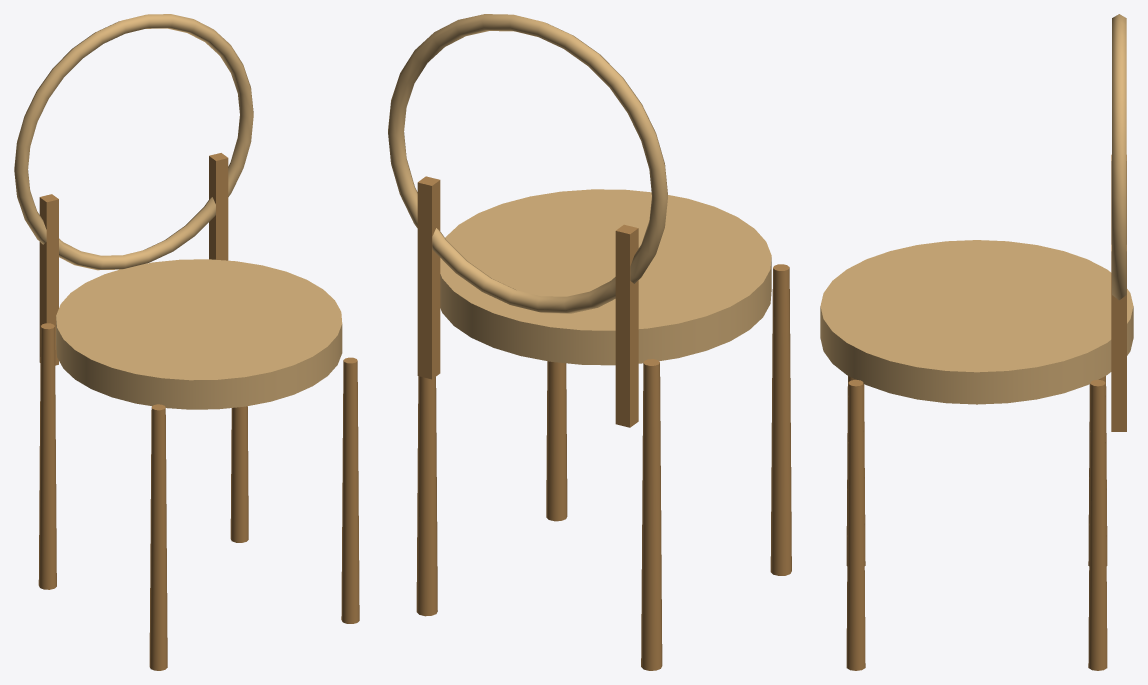
The model's file is rattan_chair.glb.
3 renders of one model, left to right at view 1: azimuth 30°, elevation 25°; view 2: azimuth 150°, elevation 25°; view 3: azimuth 270°, elevation 25°, orthographic. The views are drawn at different scales.
Visible parts, largest first — view 1: rattan_chair; view 2: rattan_chair; view 3: rattan_chair.
Part boxes in pixels (x1,y1,x2,y2): rattan_chair: (14,14,359,670); rattan_chair: (388,14,791,670); rattan_chair: (820,14,1133,670).
Size of the model in its own units: 0.44 by 0.9108 by 0.44.
